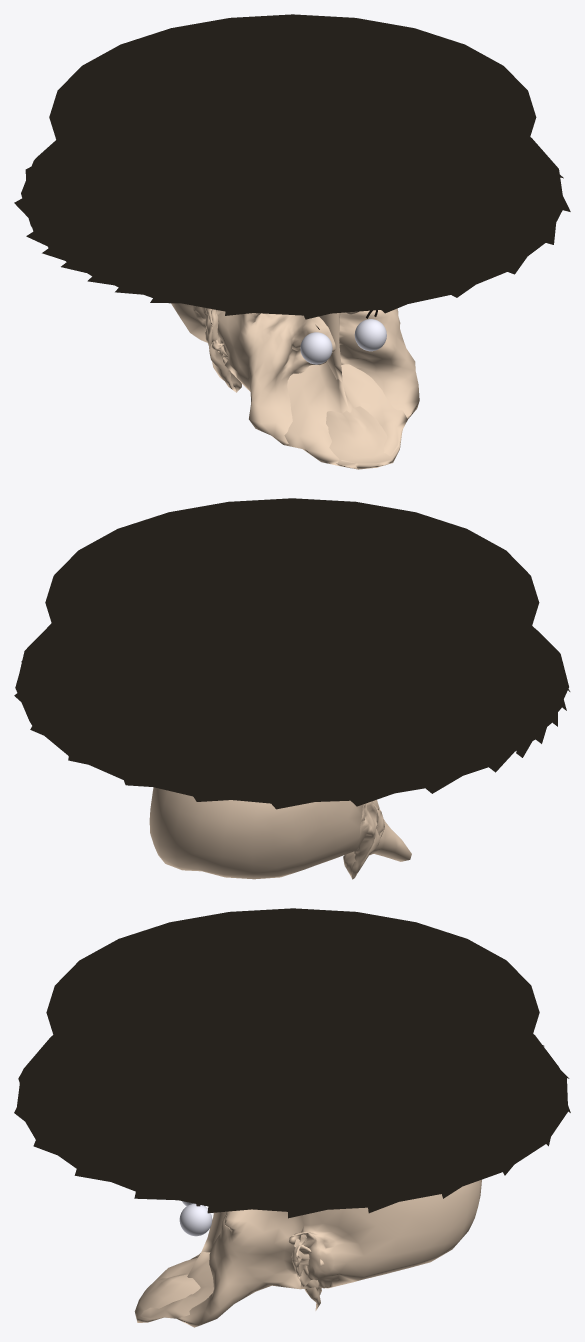
The model's file is dreamtalk_head_full.obj.
3 views of the same model, one above another, from view 1: azimuth 30°, elevation 25°; view 2: azimuth 150°, elevation 25°; view 3: azimuth 270°, elevation 25° (orthographic).
Parts seen in each view (by area): view 1: hair, skin, eyes; view 2: hair, skin; view 3: hair, skin, eyes.
Part boxes in pixels (left/top/right/bottom): hair: left=14, top=14, right=570, bottom=319; skin: left=171, top=303, right=419, bottom=469; eyes: left=300, top=319, right=386, bottom=364; hair: left=14, top=498, right=570, bottom=809; skin: left=149, top=787, right=411, bottom=879; hair: left=14, top=908, right=570, bottom=1218; skin: left=134, top=1179, right=481, bottom=1327; eyes: left=179, top=1201, right=212, bottom=1236.
Bounding box in the file's own units: 1.2 × 0.7431 × 1.19.
